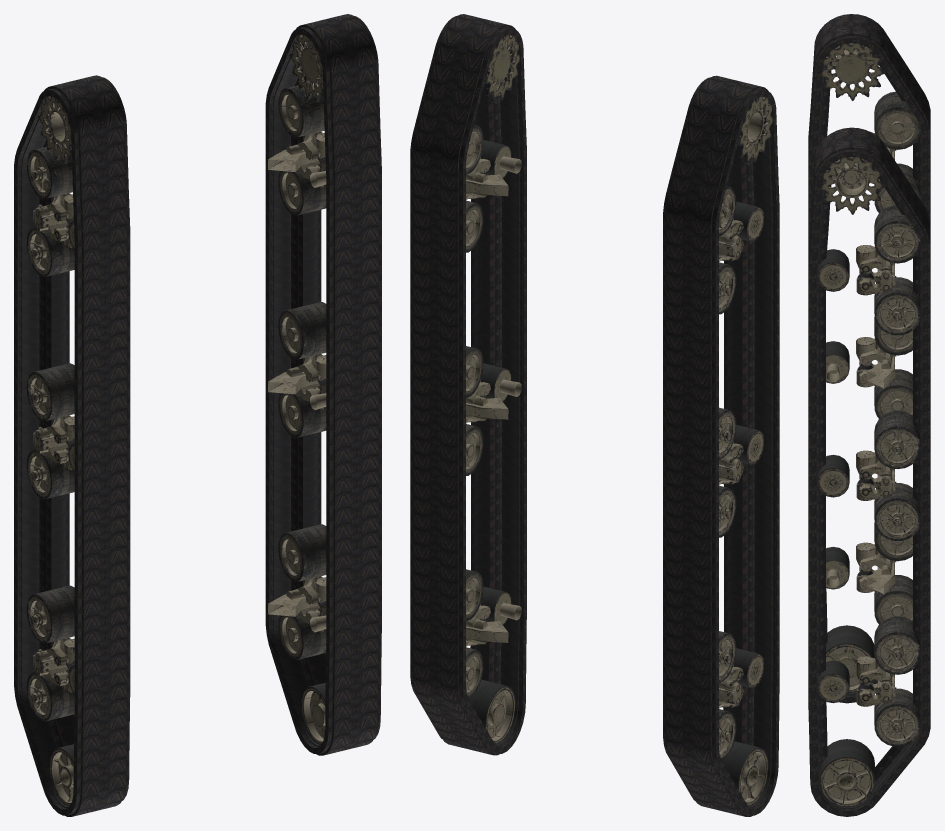
File: Chassis.glb
The picture shows the model from 3 angles, left to right: view 1: azimuth 30°, elevation 25°; view 2: azimuth 150°, elevation 25°; view 3: azimuth 270°, elevation 25°; orthographic projection. The views are drawn at different scales.
Parts seen in each view (by area): view 1: set_0_group_0, set_1_group_0, set_3_group_0, set_2_group_0; view 2: set_0_group_0, set_1_group_0, set_3_group_0, set_2_group_0; view 3: set_3_group_0, set_1_group_0, set_2_group_0, set_0_group_0.
Part boxes in pixels (bbox=[...]): set_0_group_0: bbox=[14, 75, 130, 816]; set_1_group_0: bbox=[265, 14, 381, 755]; set_3_group_0: bbox=[268, 34, 326, 744]; set_2_group_0: bbox=[26, 96, 74, 806]; set_0_group_0: bbox=[663, 75, 779, 816]; set_1_group_0: bbox=[410, 14, 526, 755]; set_3_group_0: bbox=[466, 34, 521, 744]; set_2_group_0: bbox=[719, 96, 772, 806]; set_3_group_0: bbox=[817, 157, 921, 807]; set_1_group_0: bbox=[808, 127, 930, 816]; set_2_group_0: bbox=[822, 43, 920, 693]; set_0_group_0: bbox=[808, 14, 930, 703].
Bounding box in the file's own units: 3.24 × 7.37 × 1.22.
4 materials, 4 textured.
